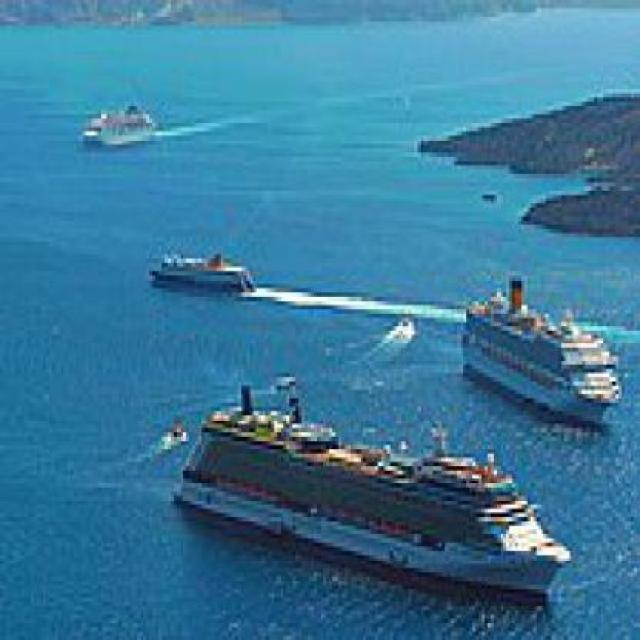cruise: (165, 379, 574, 611), (455, 272, 632, 438)
